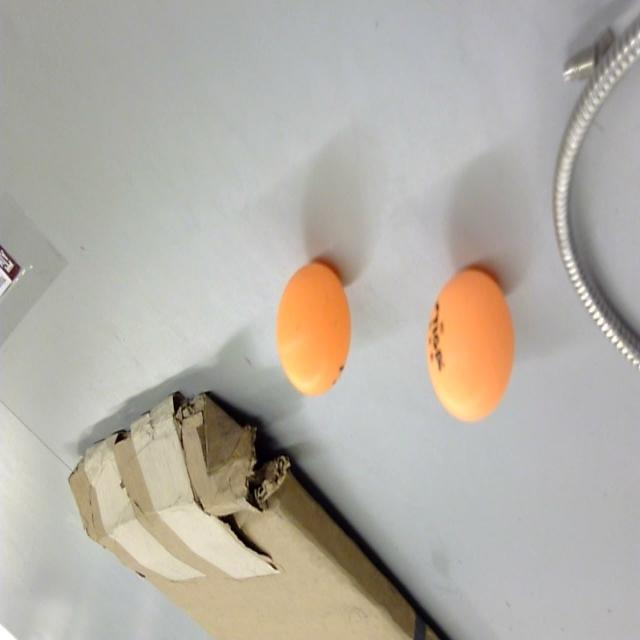ball: (425, 262, 516, 428), (276, 260, 352, 399)
